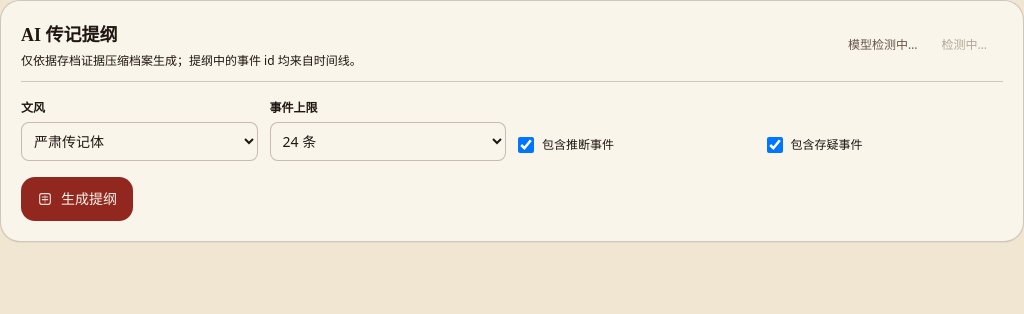
Test case: OutlinePanel › 后端不可达（请求异常）→ 显示请求错误
Click the button "生成提纲".
click(77, 199)  # box [21, 177, 133, 221]
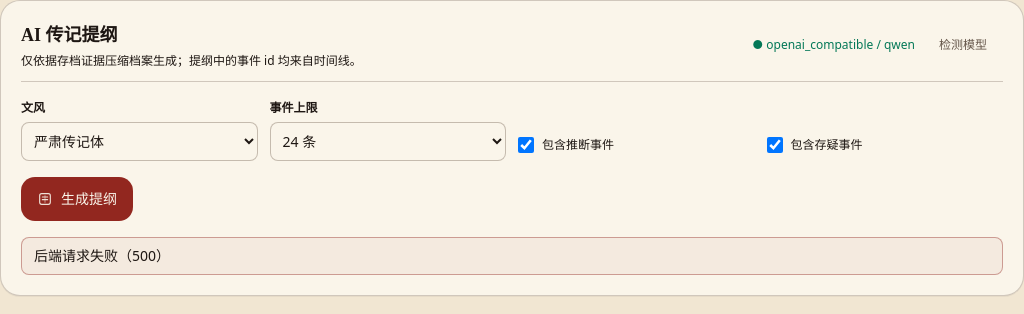
expect the text "后端请求失败（500）" is shown: met, box [21, 237, 1003, 275]
